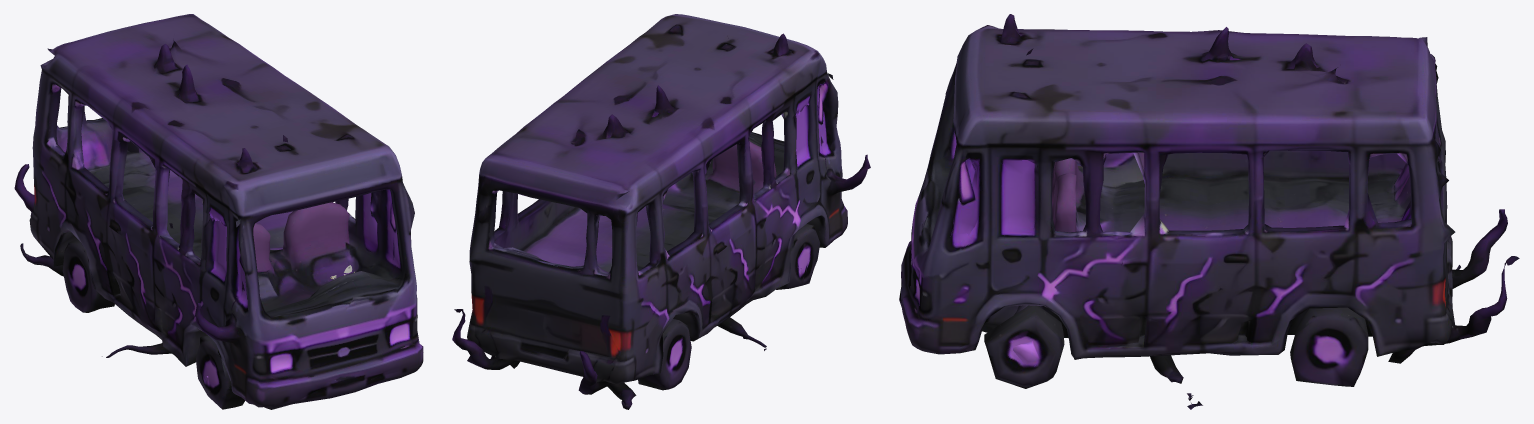
Rendered from SM_Vehicle_HauntedPurpleBus_01.fbx.
The picture shows the model from 3 angles, left to right: view 1: azimuth 30°, elevation 25°; view 2: azimuth 150°, elevation 25°; view 3: azimuth 270°, elevation 25°; orthographic projection. The views are drawn at different scales.
Parts seen in each view (by area): view 1: SM_Vehicle_HauntedPurpleBus_01; view 2: SM_Vehicle_HauntedPurpleBus_01; view 3: SM_Vehicle_HauntedPurpleBus_01.
Part boxes in pixels (x1,y1,x2,y2): SM_Vehicle_HauntedPurpleBus_01: [14, 14, 423, 409]; SM_Vehicle_HauntedPurpleBus_01: [452, 14, 870, 409]; SM_Vehicle_HauntedPurpleBus_01: [899, 14, 1519, 409].
Size of the model in its own units: 0.5413 by 0.5374 by 0.9907.
1 material, 1 textured.
